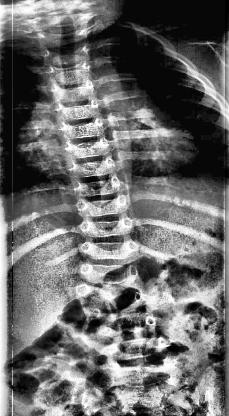Vertebrae: (77, 266, 145, 300), (102, 338, 171, 358), (74, 238, 142, 258), (96, 316, 158, 336), (53, 98, 103, 122), (76, 218, 140, 236), (92, 298, 154, 316), (71, 177, 129, 196), (68, 159, 121, 179), (45, 63, 91, 86), (59, 138, 115, 156), (77, 196, 129, 212), (53, 120, 103, 136), (50, 82, 96, 98)
